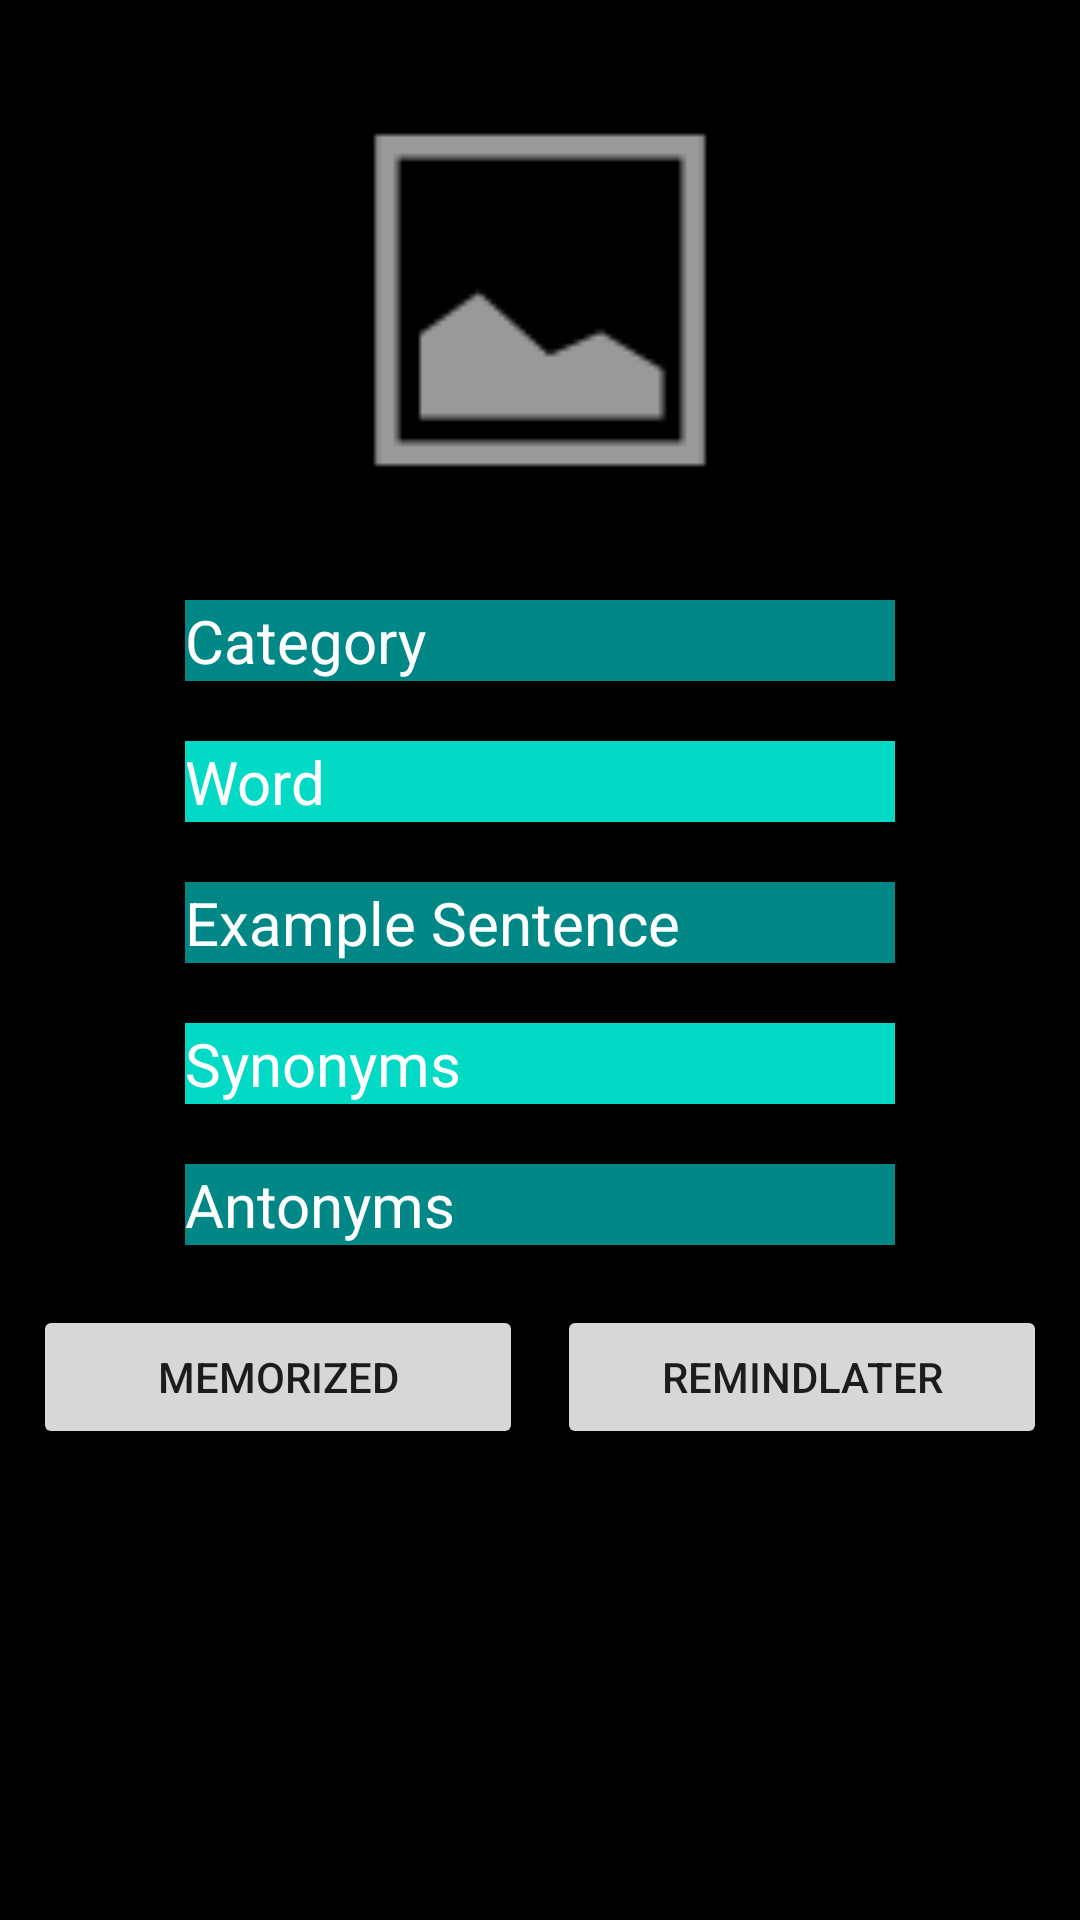

Locate icon controls on the screen. Image size 1080px×1920px, boxes as (x1, y1, x2, y2).
gallery: (373, 133, 707, 467)
